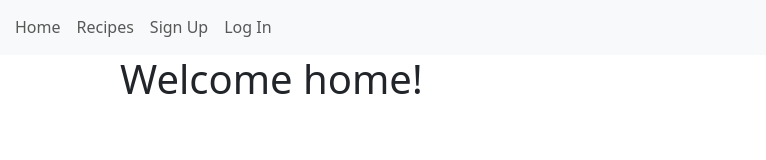
Routing › should render the recipes route
The image size is (766, 160).
Click the link "Recipes".
click(105, 27)  # box top-left (76, 16), bottom-right (134, 38)
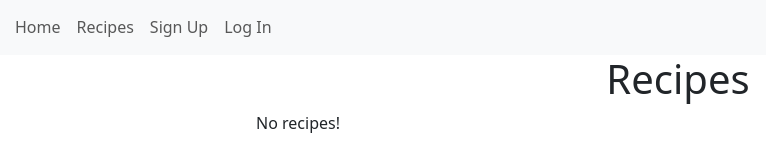
Check: the heading "Recipes" is shown, box top-left (606, 51), bottom-right (750, 106)
Check: the heading "Welcome" is gone
